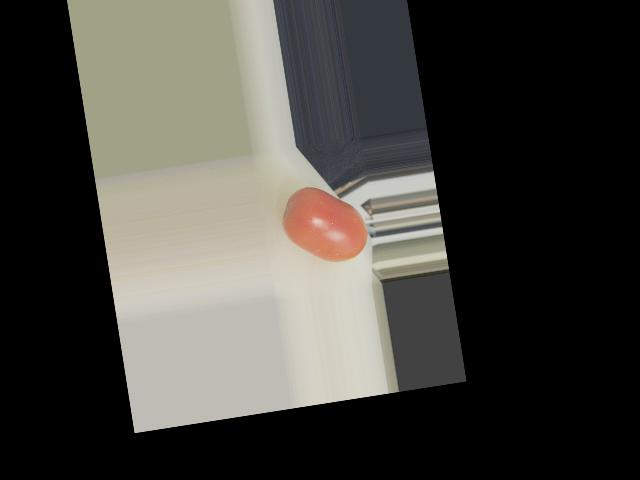tomato: (277, 179, 371, 269)
